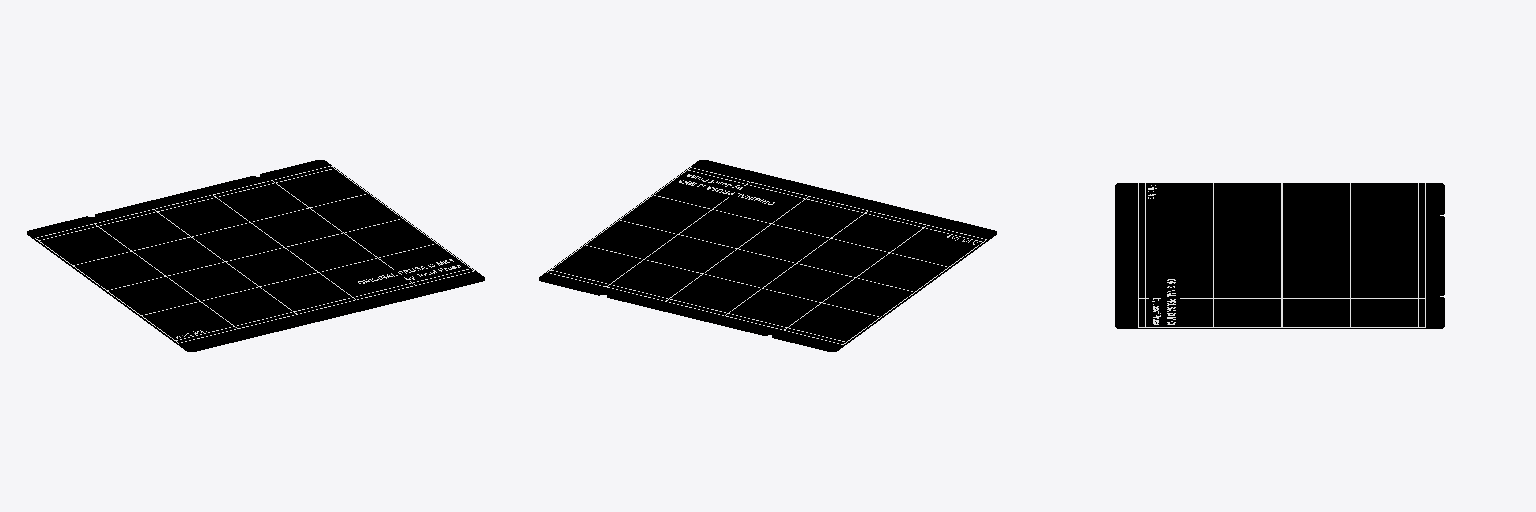
Rendered from SSSheet.obj.
3 views of the same model, side by side, from view 1: azimuth 30°, elevation 25°; view 2: azimuth 150°, elevation 25°; view 3: azimuth 270°, elevation 25° (orthographic).
Visible parts, largest first — view 1: mesh 1 SS Sheet, mesh 2 Boss-Extrude2; view 2: mesh 1 SS Sheet, mesh 2 Boss-Extrude2; view 3: mesh 1 SS Sheet, mesh 2 Boss-Extrude2.
Boxes of the visible parts, x1,y1,x2,y2 form: mesh 1 SS Sheet: [27, 160, 484, 351]; mesh 2 Boss-Extrude2: [35, 166, 474, 343]; mesh 1 SS Sheet: [539, 160, 996, 351]; mesh 2 Boss-Extrude2: [547, 167, 986, 344]; mesh 1 SS Sheet: [1115, 183, 1444, 328]; mesh 2 Boss-Extrude2: [1138, 183, 1425, 327].
Size of the model in its own units: 0.252 by 0.001 by 0.241.